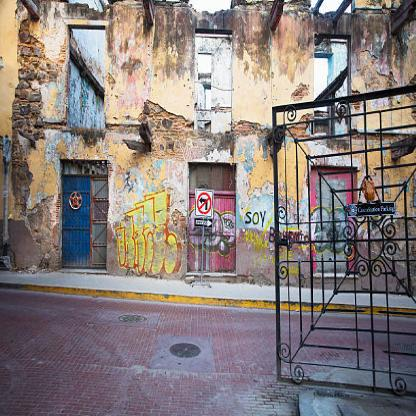manholes: (116, 304, 156, 341), (167, 338, 205, 371)
